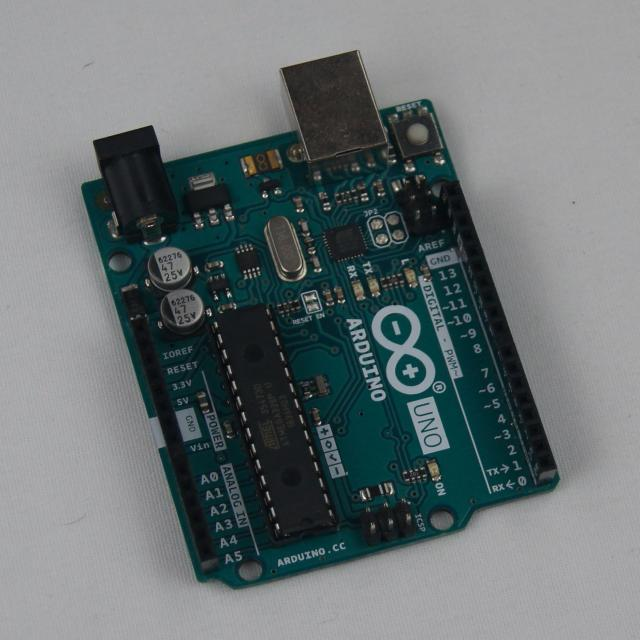Arduino Uno -Green-: (84, 52, 560, 587)
